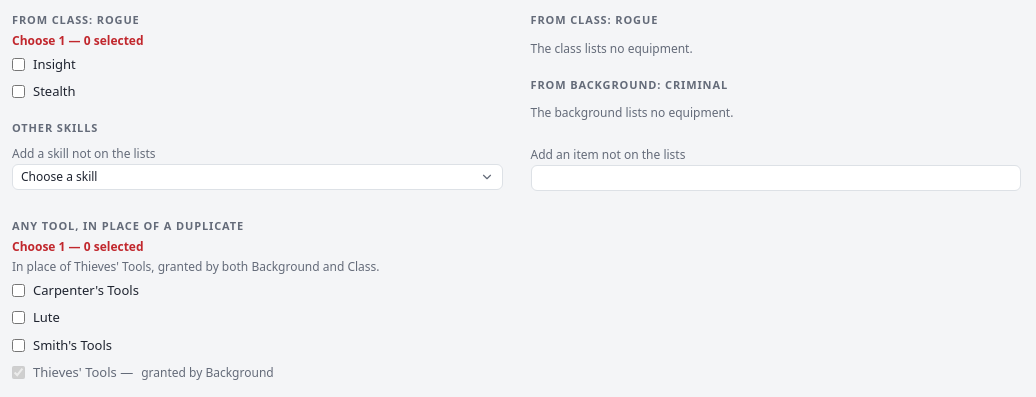
Test case: ProficienciesStep › a tool the class and the background both grant › earns a classic character a pick of any tool in its place, which departs from nothing
Expected: the text "In place of Thieves' Tools, granted by both Background and Class." is shown, [12,258,380,274]
Expected: the text "Choose 1 — 0 selected" below "Any tool, in place of a duplicate" is shown, [12,238,144,254]
Click the checkbox labelled "Lute" at (18, 318), box [12,311,25,324]
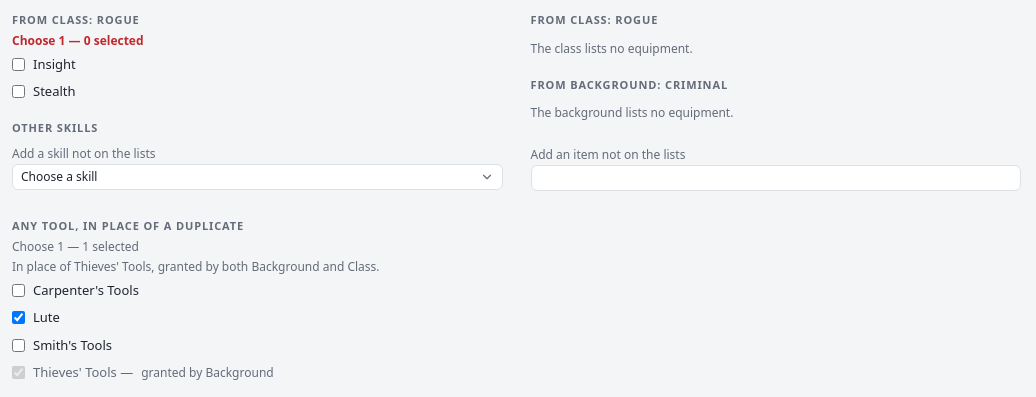
Result: the text "Choose 1 — 1 selected" is shown at [12,238,139,254]
